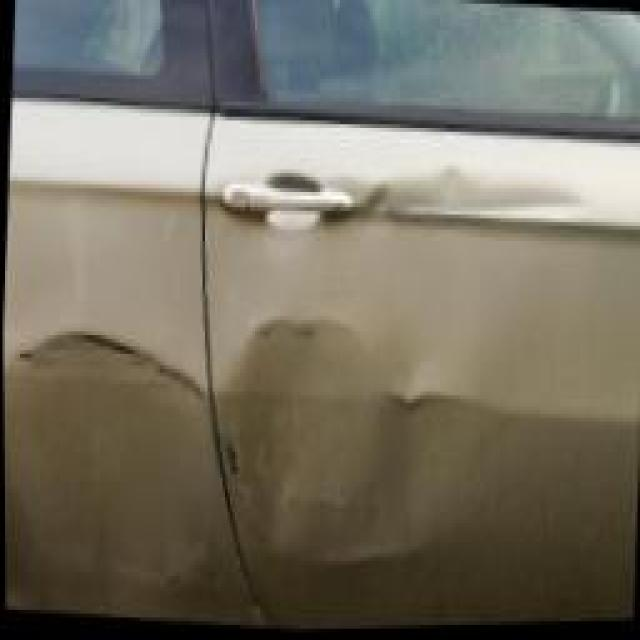Door: (218, 113, 639, 636), (5, 294, 211, 468)
